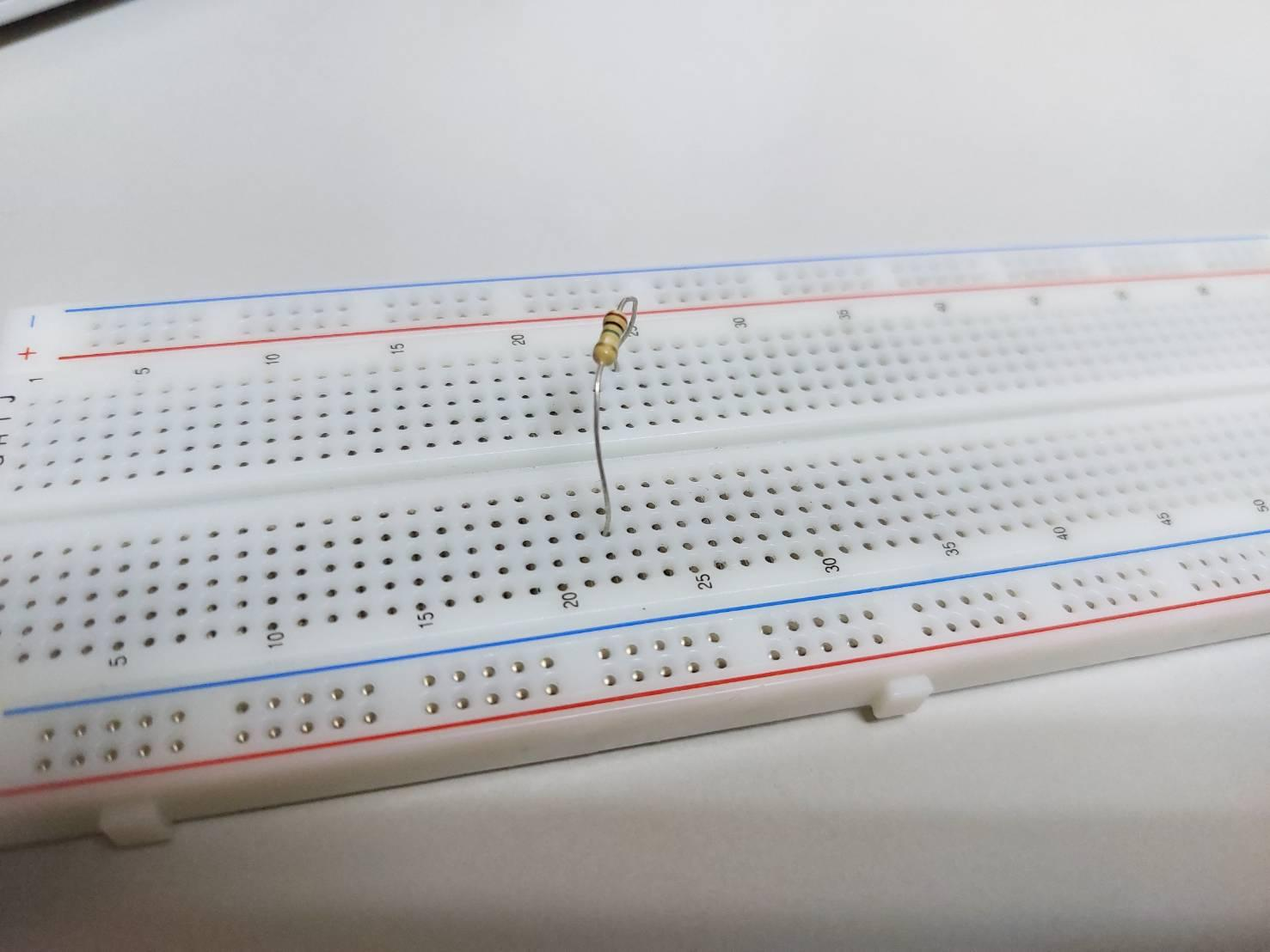resistor: (594, 310, 628, 367)
